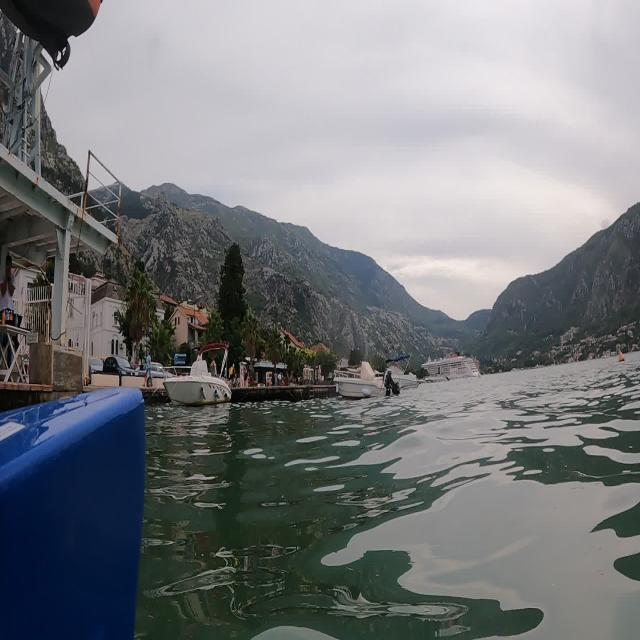boat: (162, 339, 233, 409), (325, 352, 390, 406), (416, 346, 488, 382), (378, 351, 429, 400)
